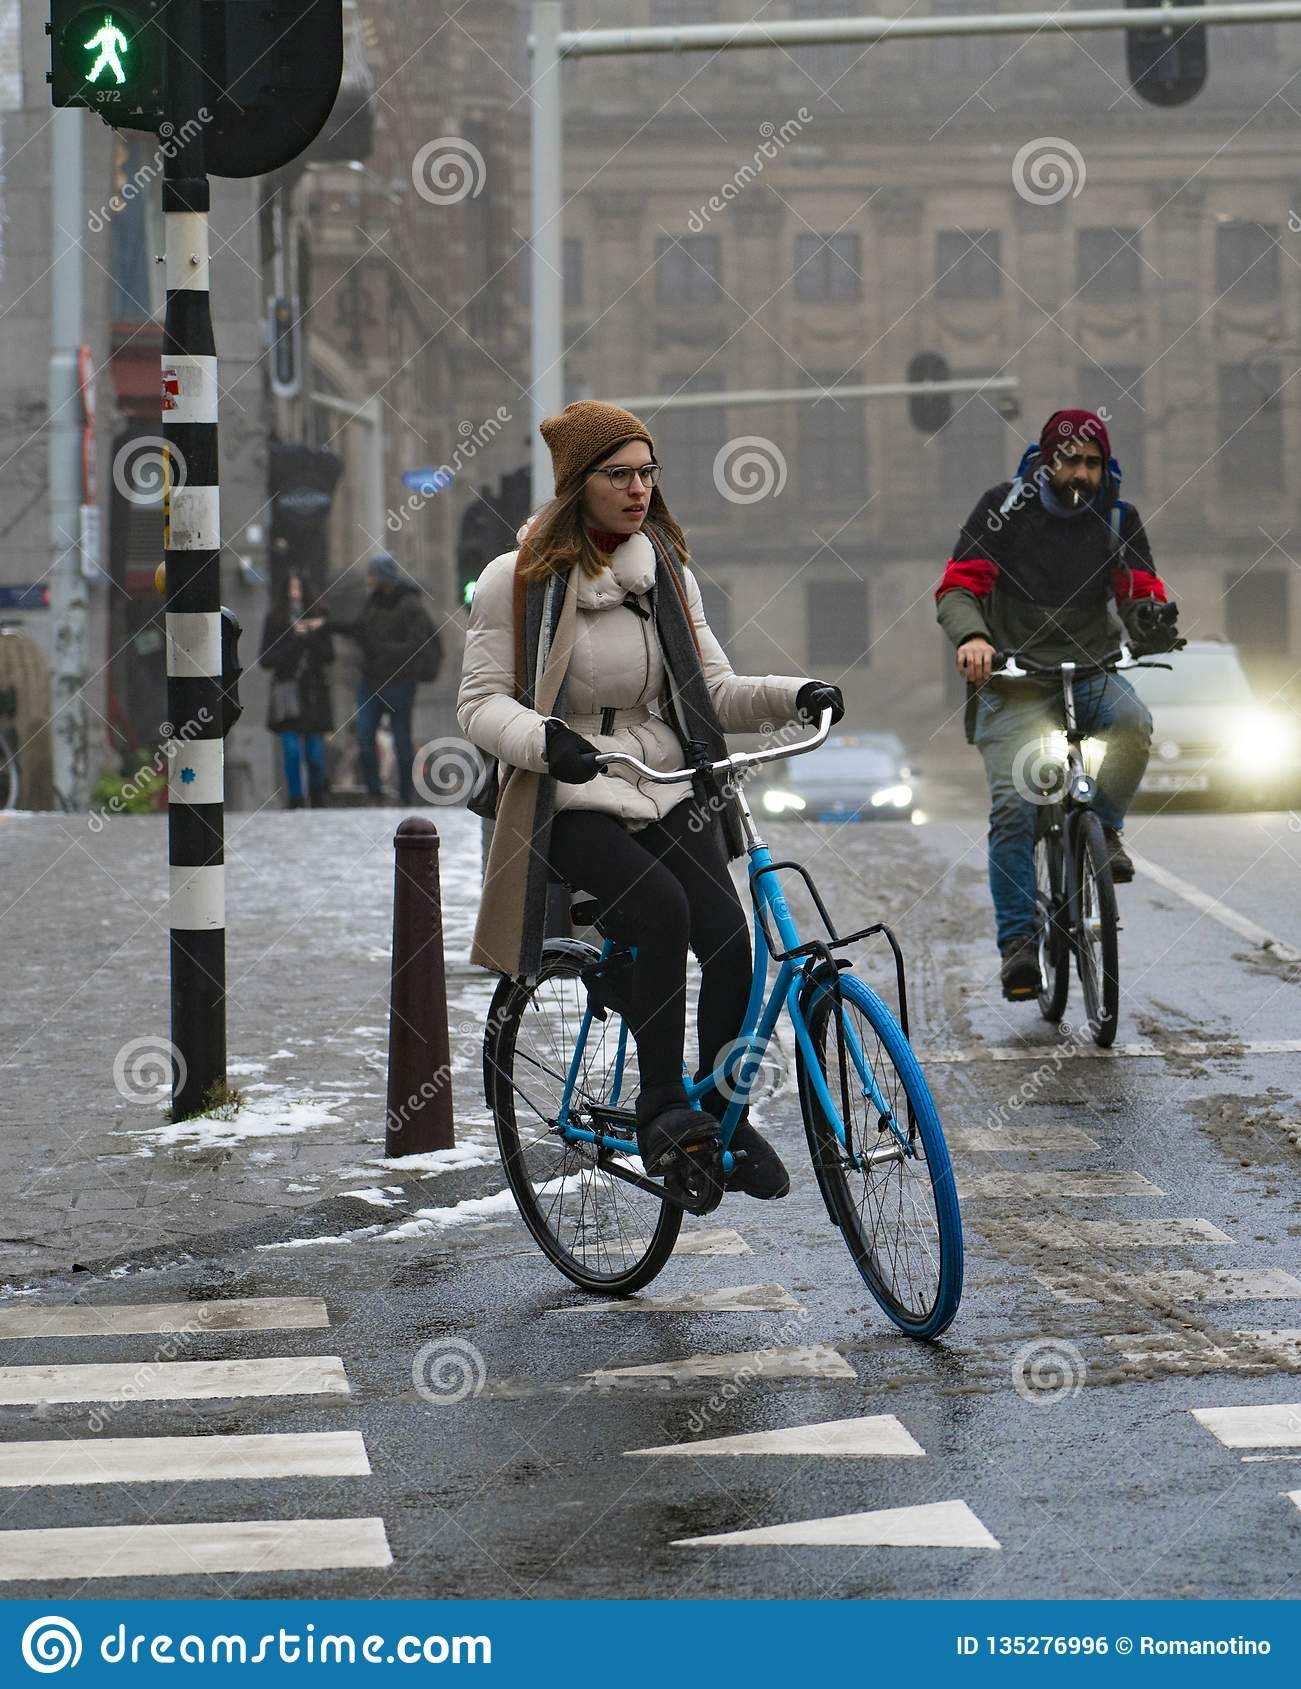commuter: (456, 403, 968, 1342), (935, 409, 1190, 1054)
